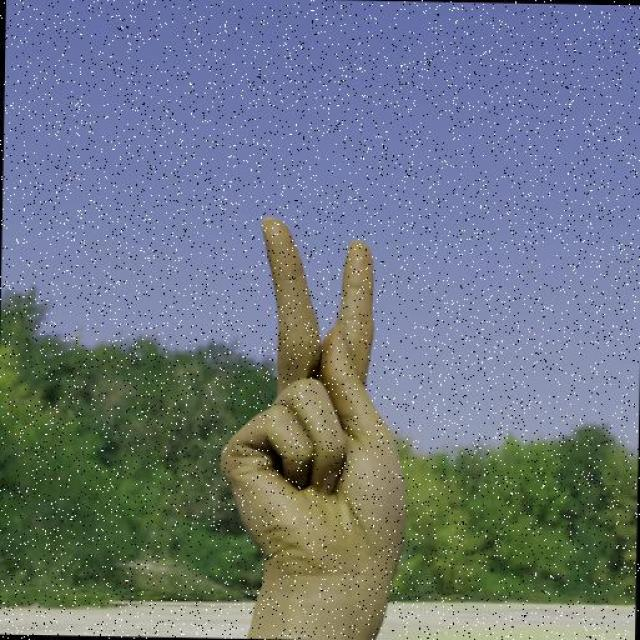K: (214, 213, 416, 606)
